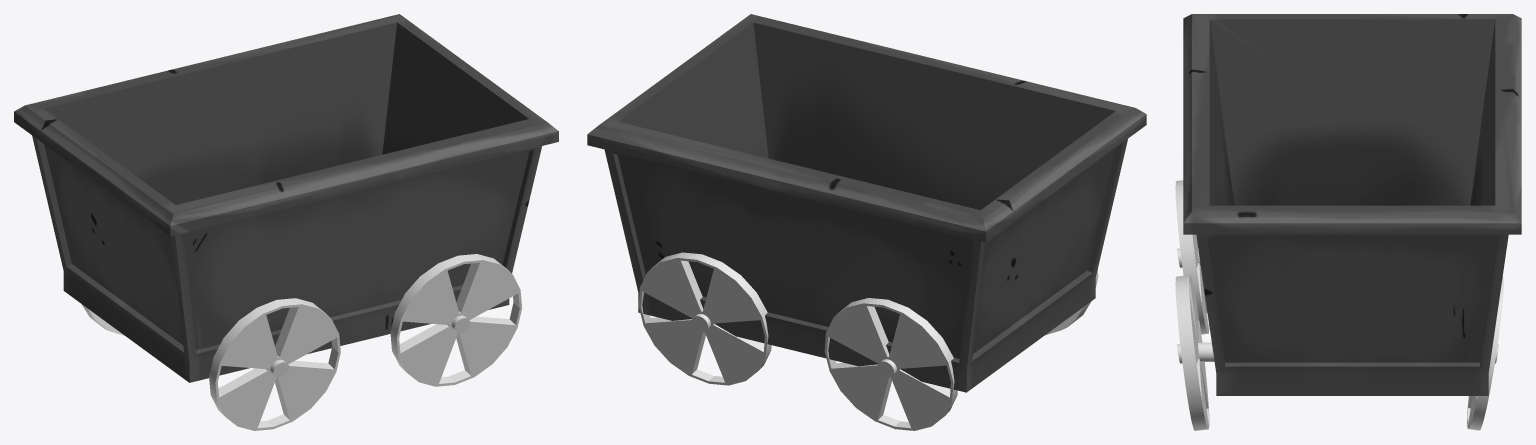
File: vagonmesh.fbx
3 views of the same model, side by side, from view 1: azimuth 30°, elevation 25°; view 2: azimuth 150°, elevation 25°; view 3: azimuth 270°, elevation 25° (orthographic). The views are drawn at different scales.
Parts seen in each view (by area): view 1: Vagon, Llantas; view 2: Vagon, Llantas; view 3: Vagon, Llantas.
Boxes of the visible parts, x1,y1,x2,y2 form: Vagon: [14, 14, 558, 382]; Llantas: [81, 254, 521, 430]; Vagon: [587, 14, 1146, 392]; Llantas: [638, 252, 1098, 430]; Vagon: [1183, 14, 1521, 395]; Llantas: [1175, 180, 1503, 430].
Size of the model in its own units: 1671 by 994 by 1193.
